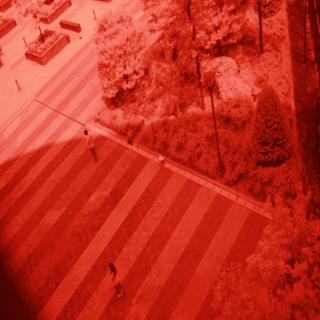person: (79, 123, 102, 165), (107, 258, 128, 302)
